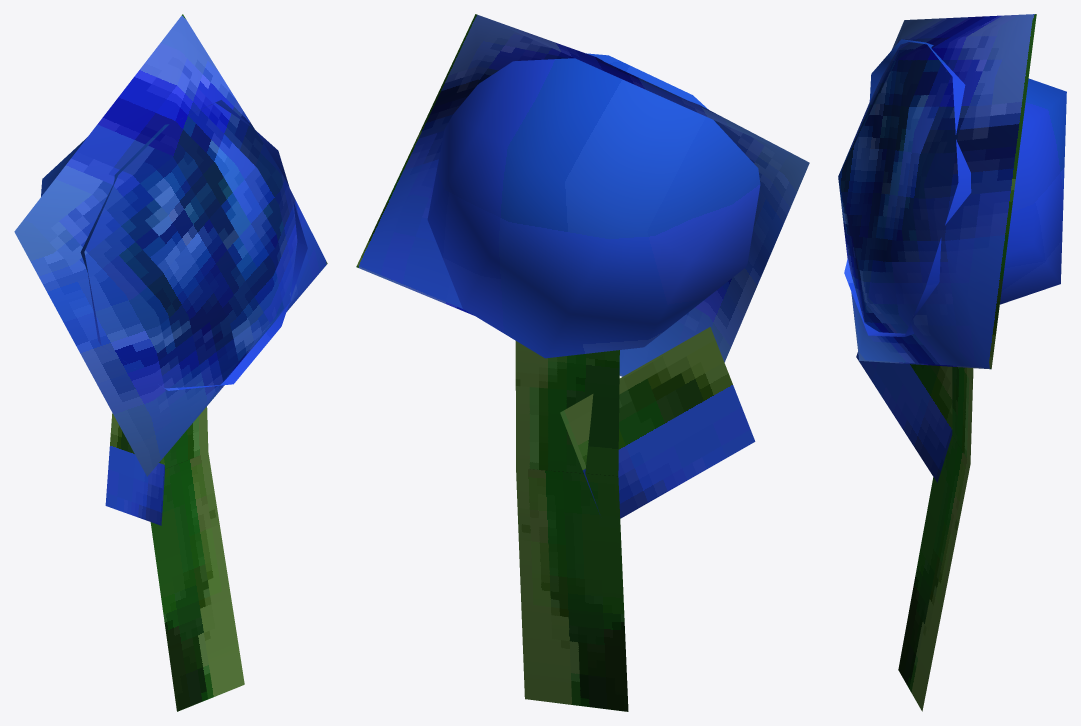
Rendered from flw_rose_bl_acc.dae.
3 renders of one model, left to right at view 1: azimuth 30°, elevation 25°; view 2: azimuth 150°, elevation 25°; view 3: azimuth 270°, elevation 25°, orthographic. The views are drawn at different scales.
Visible parts, largest first — view 1: flw_rose_bl_acc; view 2: flw_rose_bl_acc; view 3: flw_rose_bl_acc.
Boxes of the visible parts, <box> form: flw_rose_bl_acc: <box>14,14,327,711</box>; flw_rose_bl_acc: <box>356,14,809,711</box>; flw_rose_bl_acc: <box>838,14,1066,711</box>.
Size of the model in its own units: 10.66 by 18.3 by 5.47.
Materials: 1 (1 with a texture image).
